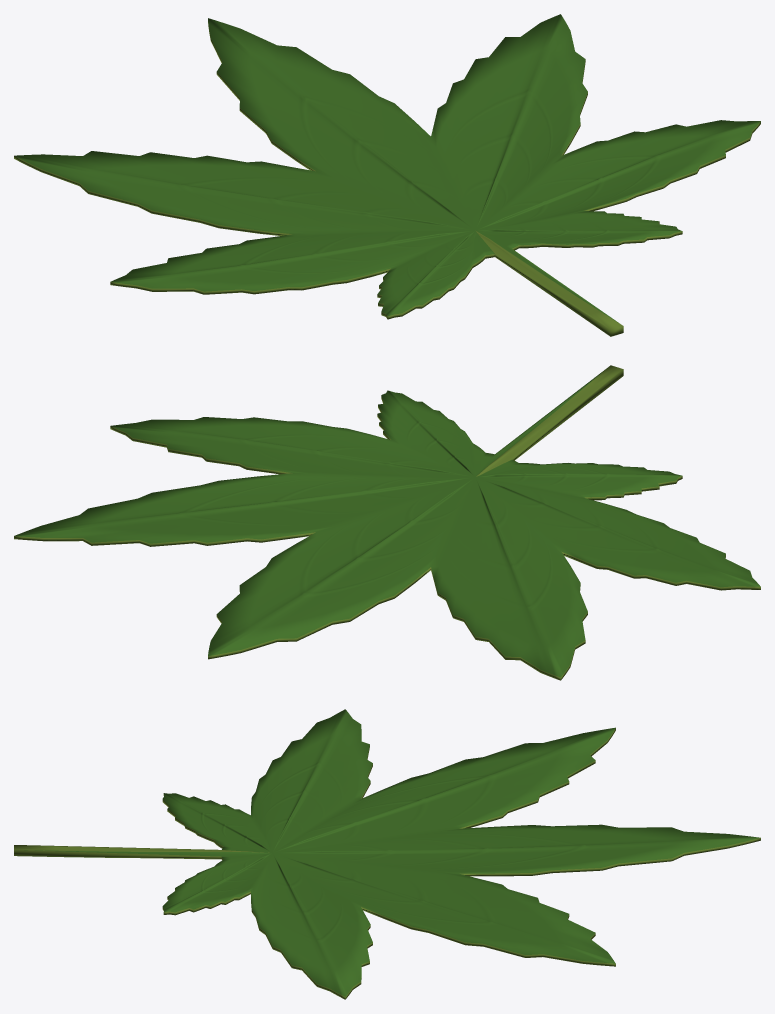
3 renders of one model, top to bottom at view 1: azimuth 30°, elevation 25°; view 2: azimuth 150°, elevation 25°; view 3: azimuth 270°, elevation 25°, orthographic. The views are drawn at different scales.
Visible parts, largest first — view 1: NEW330_Maple_leaf_LOD0; view 2: NEW330_Maple_leaf_LOD0; view 3: NEW330_Maple_leaf_LOD0.
Boxes of the visible parts, bbox=[...] form: NEW330_Maple_leaf_LOD0: bbox=[14, 14, 760, 336]; NEW330_Maple_leaf_LOD0: bbox=[14, 365, 760, 680]; NEW330_Maple_leaf_LOD0: bbox=[14, 709, 760, 999].
Bounding box in the file's own units: 0.1193 × 0.00475 × 0.13.
